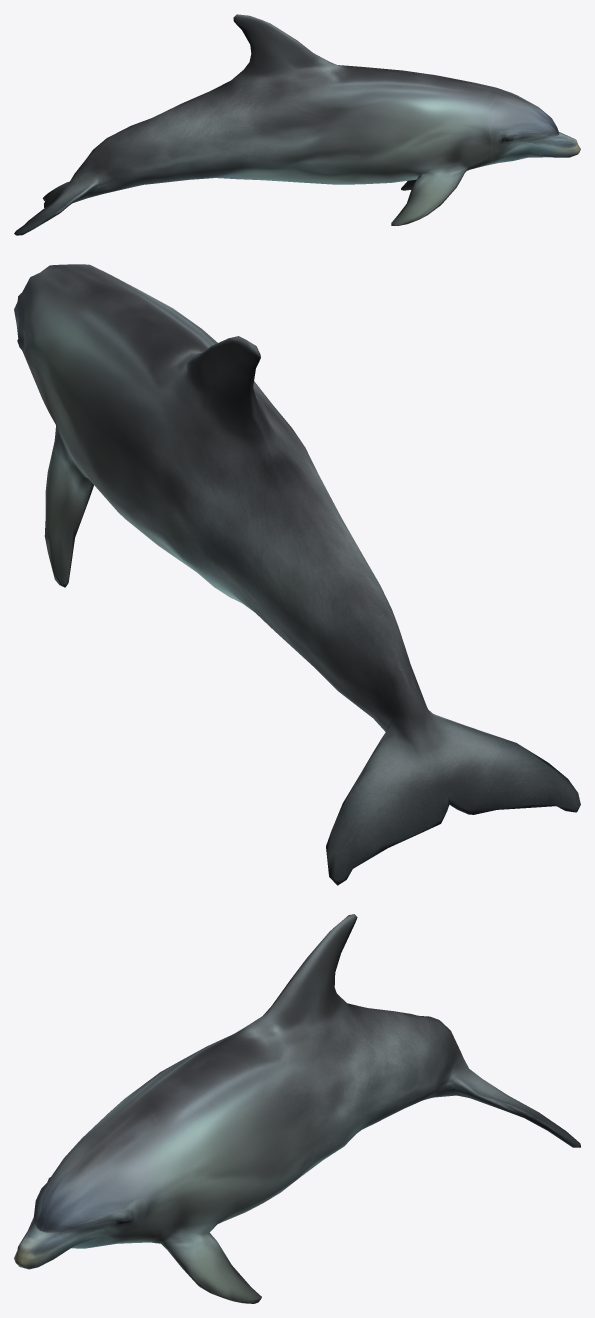
The model's file is dolphin_single_1500.glb.
3 renders of one model, top to bottom at view 1: azimuth 30°, elevation 25°; view 2: azimuth 150°, elevation 25°; view 3: azimuth 270°, elevation 25°, orthographic. The views are drawn at different scales.
Bounding box in the file's own units: 0.8287 × 0.3832 × 0.6093.
1 material, 1 textured.
